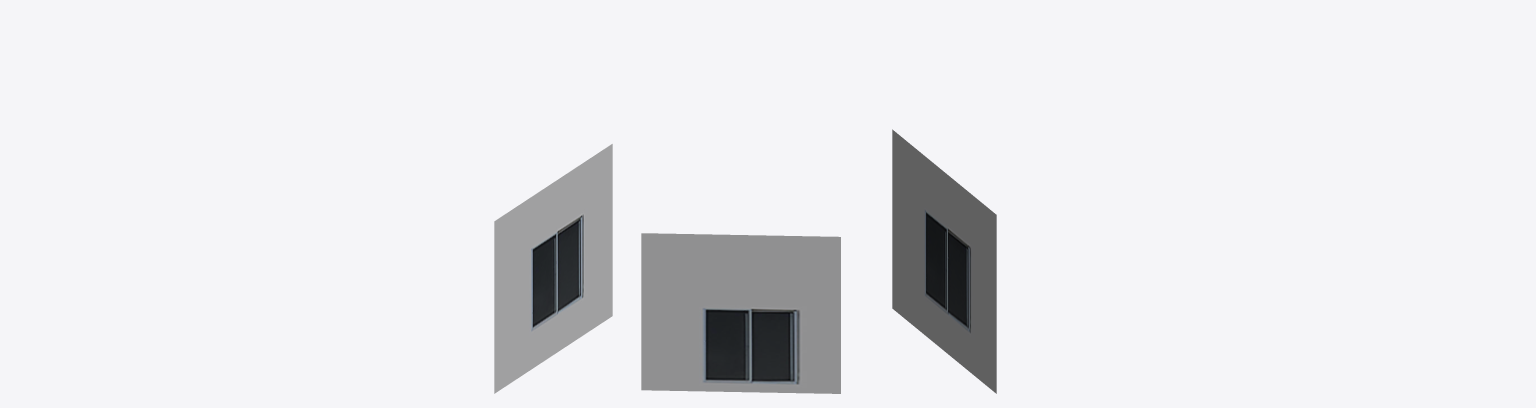
Rendered from myFileName_1096.glb.
3 renders of one model, left to right at view 1: azimuth 30°, elevation 25°; view 2: azimuth 150°, elevation 25°; view 3: azimuth 270°, elevation 25°, orthographic. The views are drawn at different scales.
Size of the model in its own units: 6.21 by 2.58 by 8.23.
Materials: 1 (1 with a texture image).
